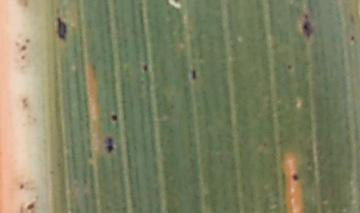tarspot: (300, 12, 315, 40), (55, 15, 69, 43), (104, 135, 116, 154), (348, 11, 356, 27), (189, 67, 197, 80), (290, 172, 299, 182), (109, 112, 118, 122), (26, 202, 35, 212), (19, 44, 28, 53), (17, 182, 26, 191), (141, 63, 149, 72), (19, 53, 27, 62), (285, 63, 293, 71), (23, 36, 31, 44), (348, 33, 355, 42), (261, 141, 267, 149)
